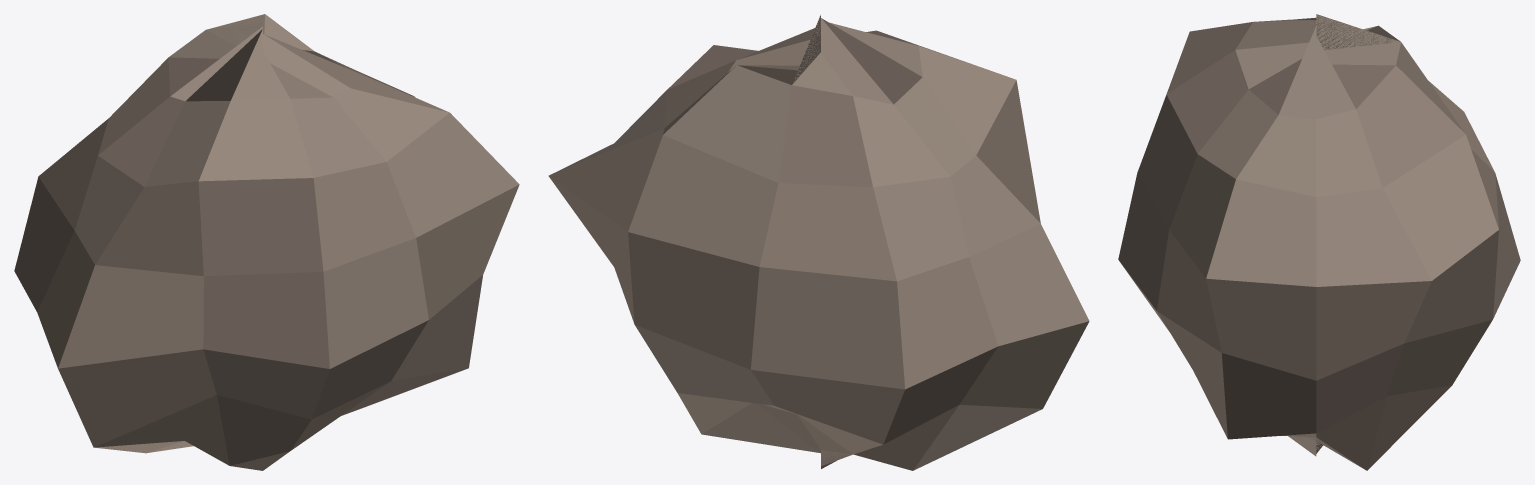
The model's file is Rock04.glb.
The picture shows the model from 3 angles, left to right: view 1: azimuth 30°, elevation 25°; view 2: azimuth 150°, elevation 25°; view 3: azimuth 270°, elevation 25°; orthographic projection. The views are drawn at different scales.
Visible parts, largest first — view 1: Rock04Hull; view 2: Rock04Hull; view 3: Rock04Hull.
Part boxes in pixels (box(x1,y1,x2,y2)): Rock04Hull: box(14, 14, 519, 470); Rock04Hull: box(548, 14, 1089, 470); Rock04Hull: box(1118, 14, 1520, 470).
Bounding box in the file's own units: 2 × 1.88 × 1.55.
